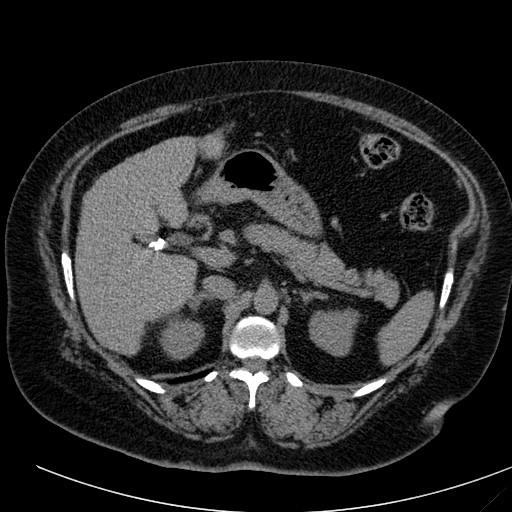clipe: (147, 237, 166, 251)
